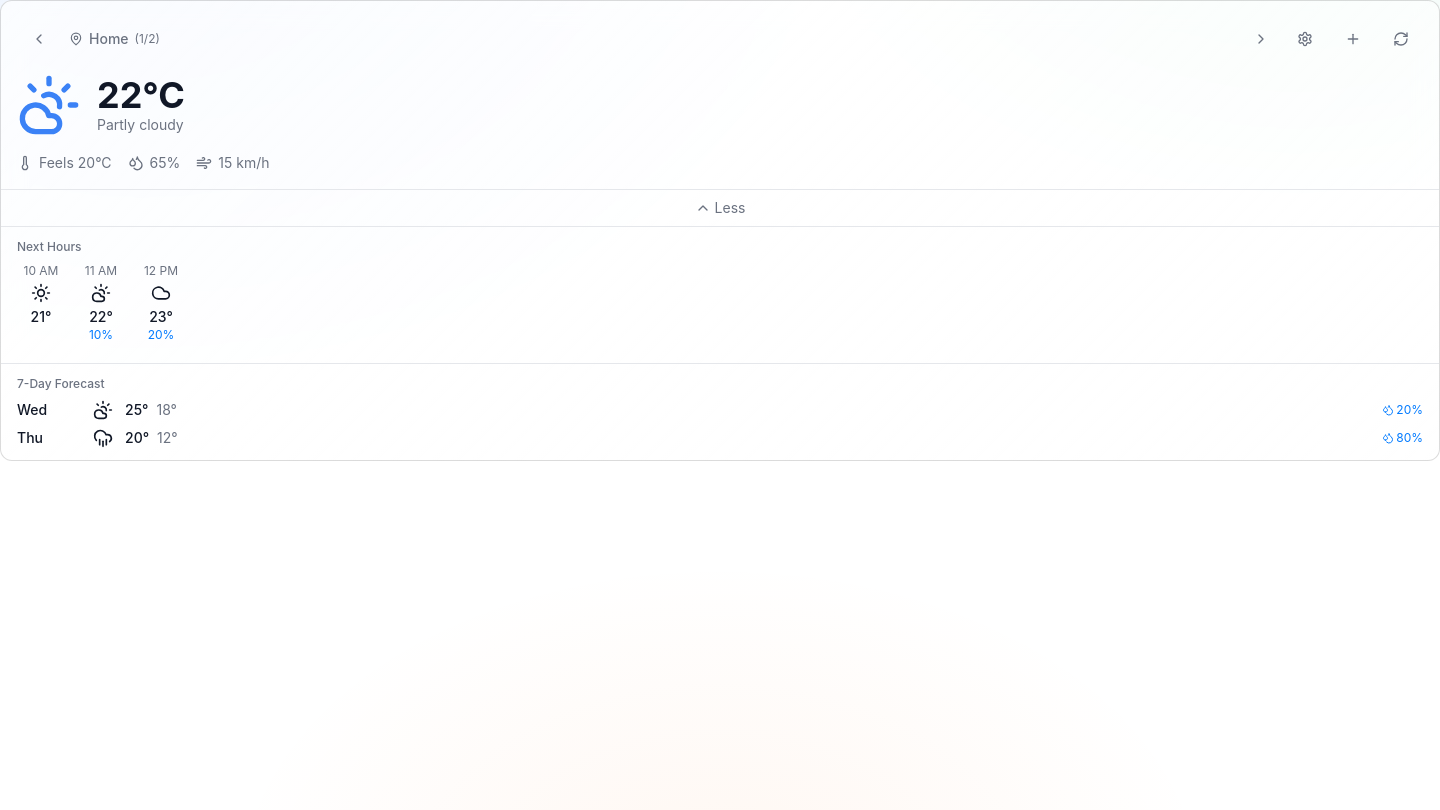
Scenario: WeatherWidget › Add Location Modal › opens add location modal when add button is clicked
Click the button titled "Add location" at (1353, 39), box [1331,17,1375,61]
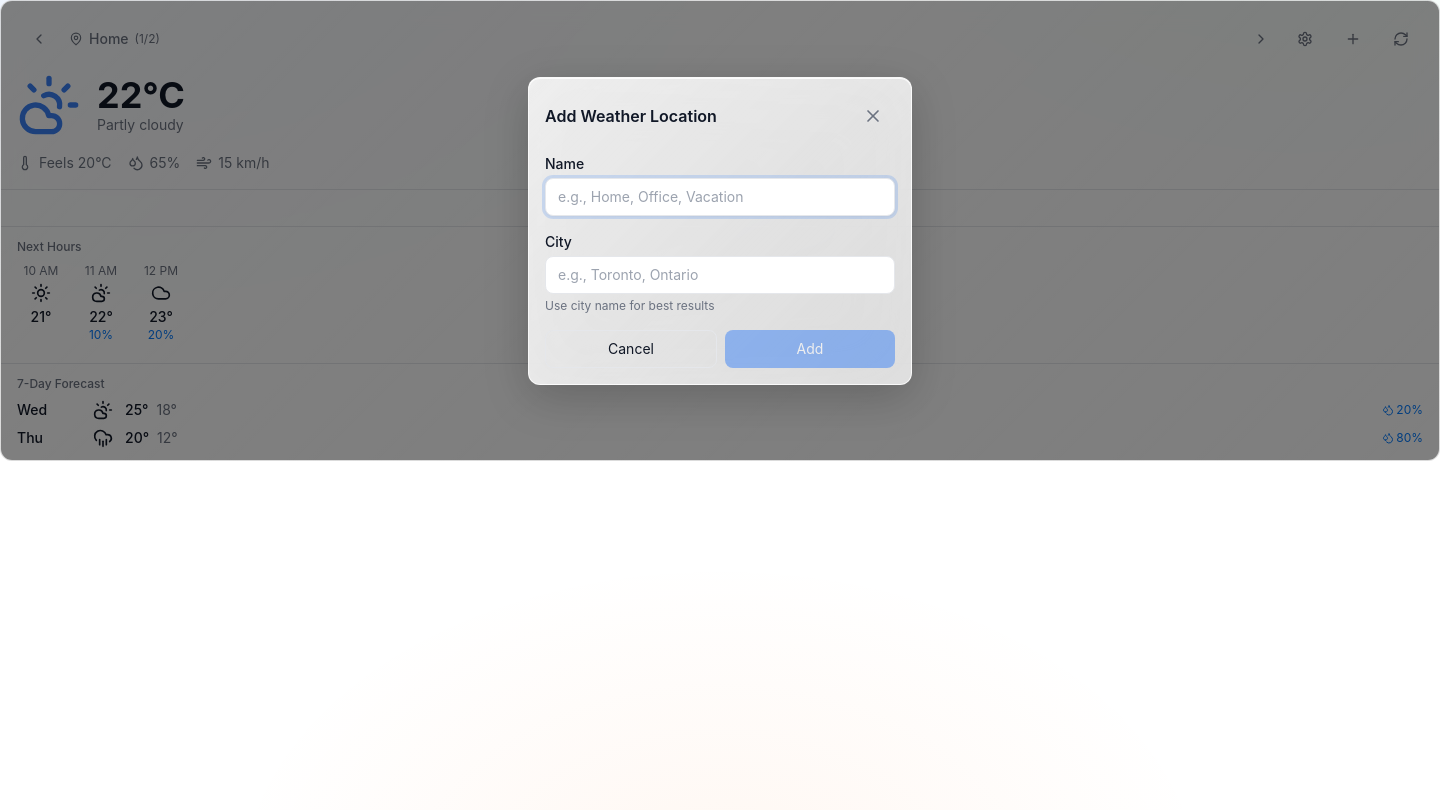
Expected: the heading "Add Weather Location" is shown, [545,104,717,128]
Expected: the text "Name" is shown, [545,154,584,172]
Expected: the text "City" is shown, [545,232,572,250]
